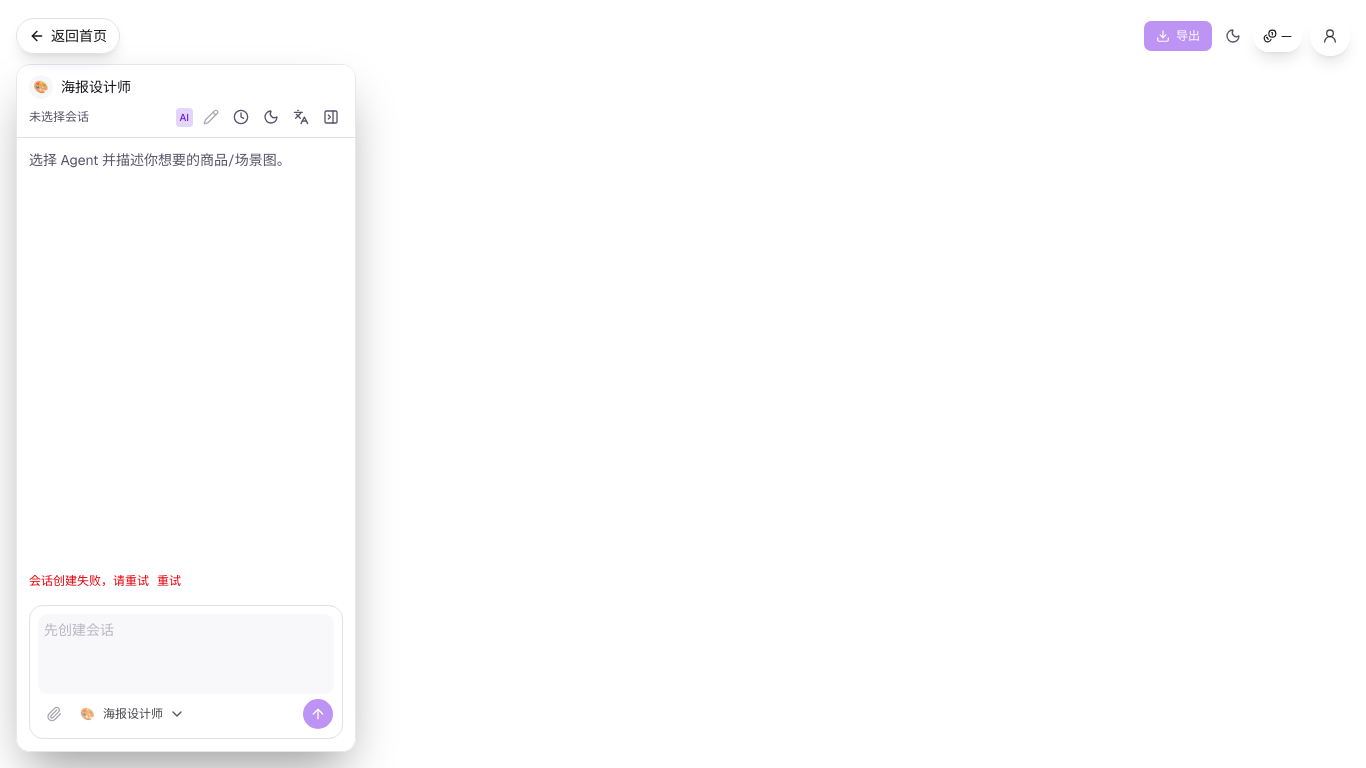
Test: canvas 页：会话引导 bootstrap › 自动建会话失败呈现错误行 + 重试入口，重试成功后输入可用
The image size is (1366, 768).
Check: the element with test id "chat-status-line" shows "会话创建失败", box [29, 573, 149, 589]
// 点击重试：第二次 POST 成功
Step 1. Click the button "重试" → (169, 581), box [157, 573, 181, 589]
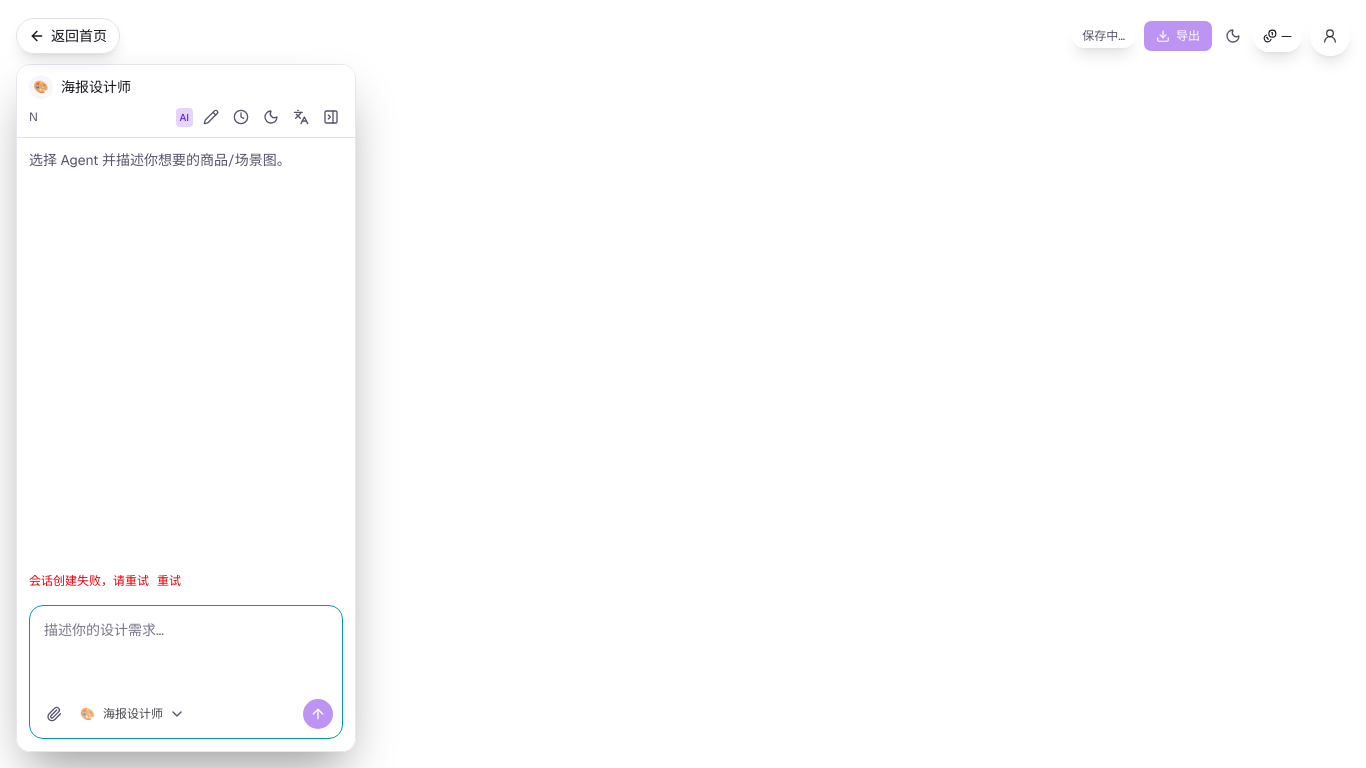
Check: the text box is enabled, box [38, 614, 334, 694]
